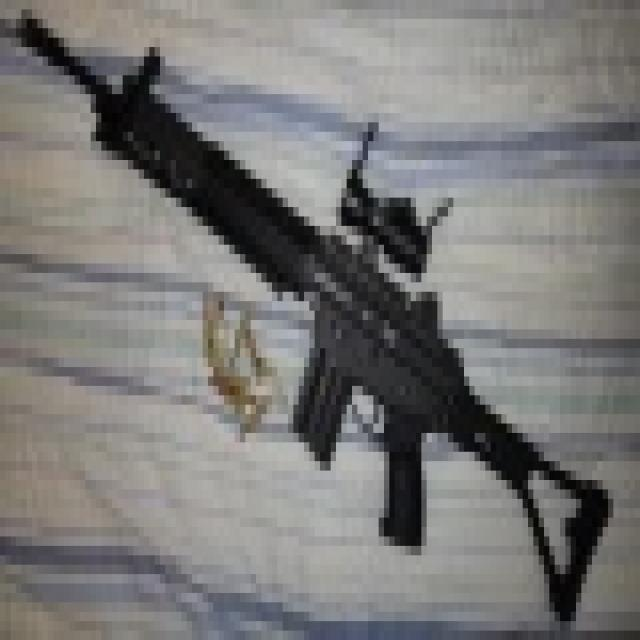Gun: (13, 6, 618, 627)
